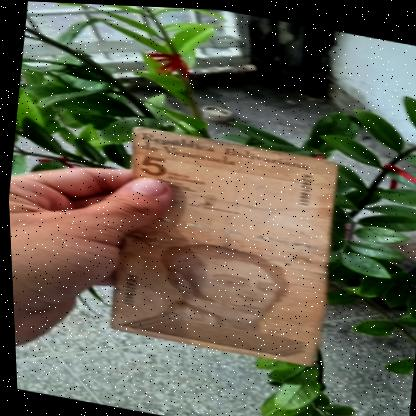five-front-vef: (97, 120, 345, 366)
